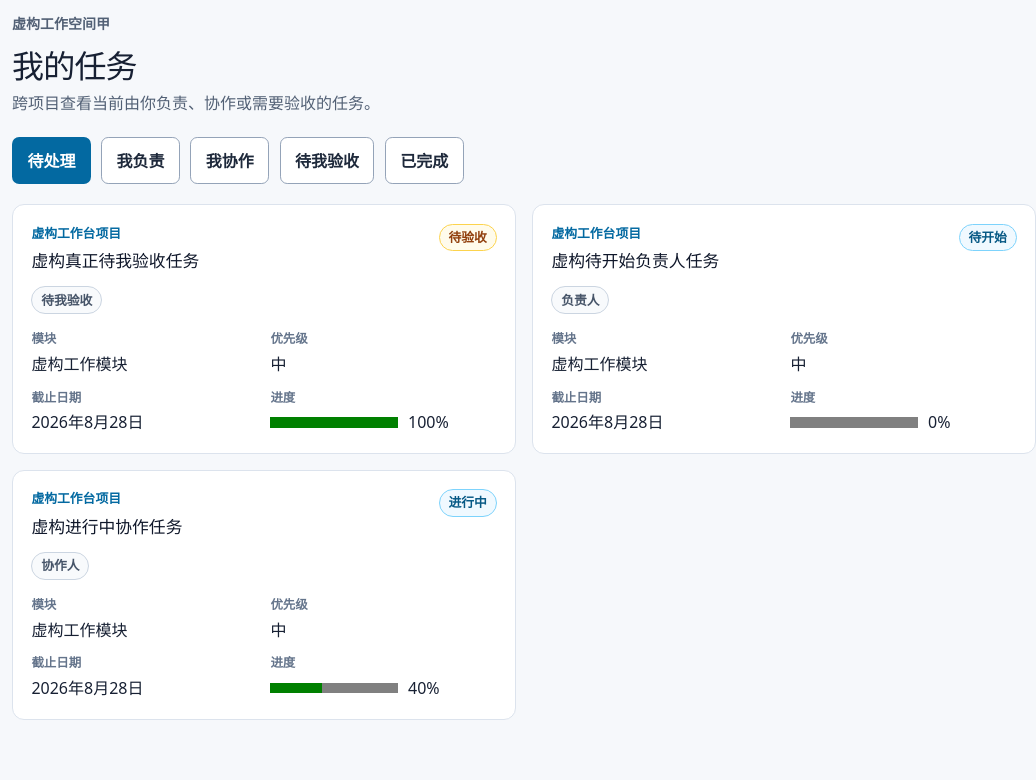
it: 我的任务页面 › /tasks 是正式页面，各筛选保持责任语义且待我验收不含已提交任务
Expected: the heading "我的任务" is shown, [12,44,137,87]
Expected: the link "虚构待开始负责人任务" is shown, [551,249,719,272]
Click the button "我负责". click: x=141, y=161
box: [101,137,180,184]
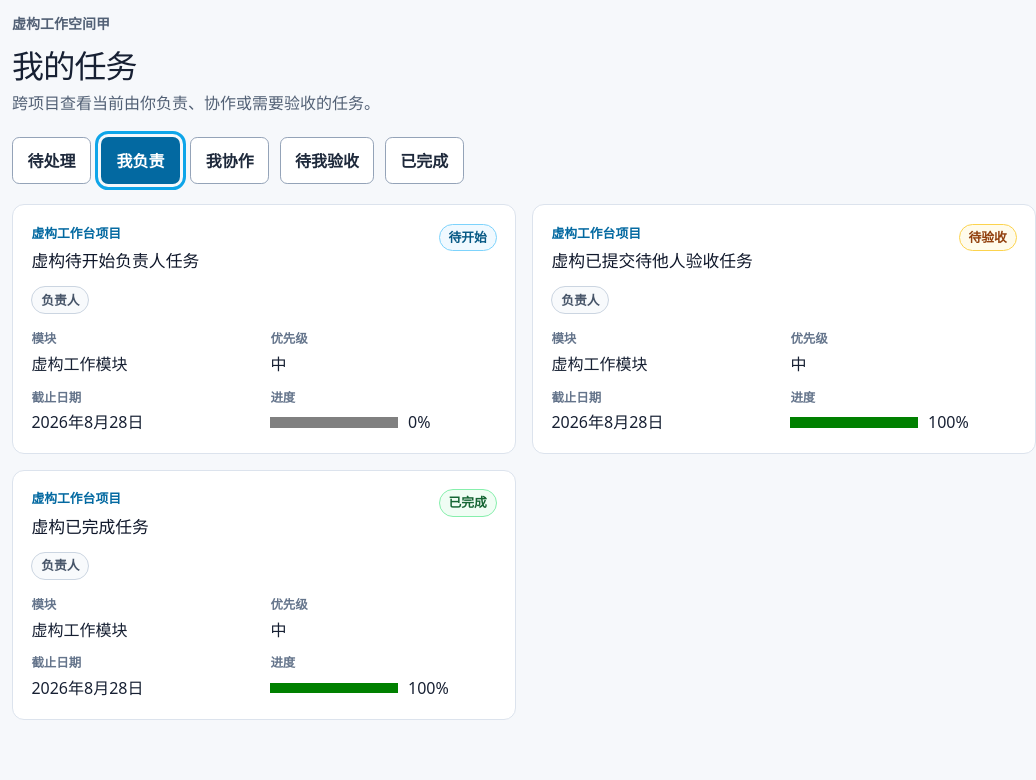
Expected: the link "虚构待开始负责人任务" is shown, [31,249,199,272]
Result: the link "虚构已提交待他人验收任务" is shown at [551,249,753,272]
Result: the link "虚构进行中协作任务" is gone
Click the button "我协作". click: x=230, y=161
box: [190,137,269,184]
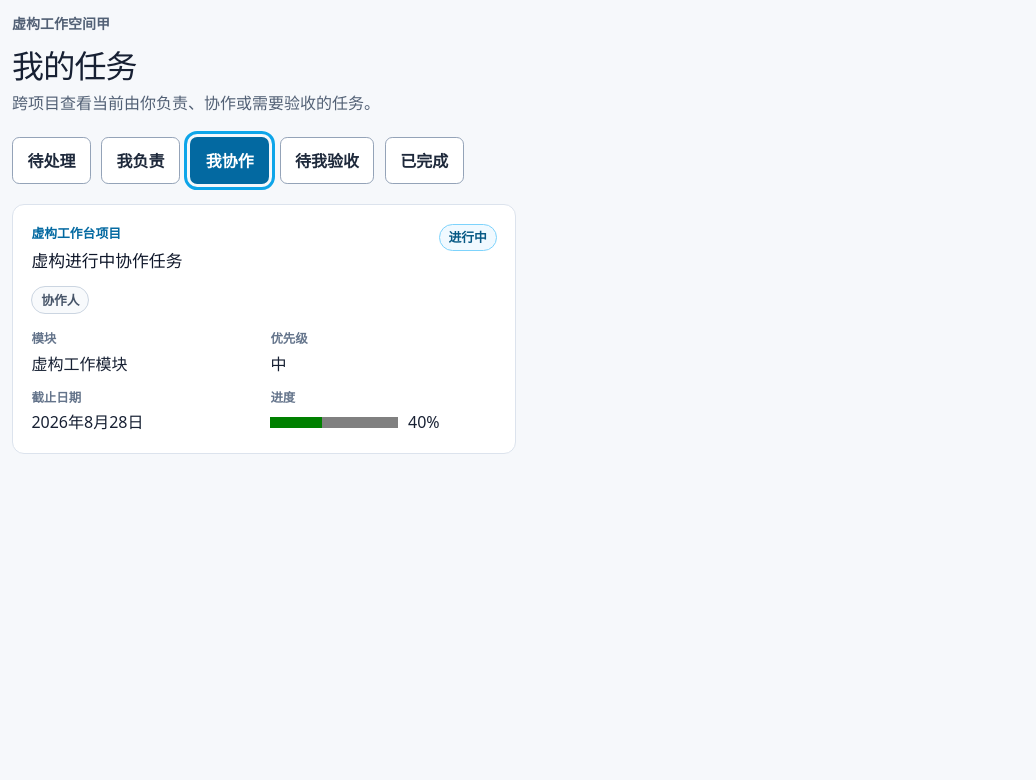
Result: the link "虚构进行中协作任务" is shown at [31,249,182,272]
Result: the link "虚构待开始负责人任务" is gone
Click the button "待我验收". click: x=327, y=161
box: [280,137,374,184]
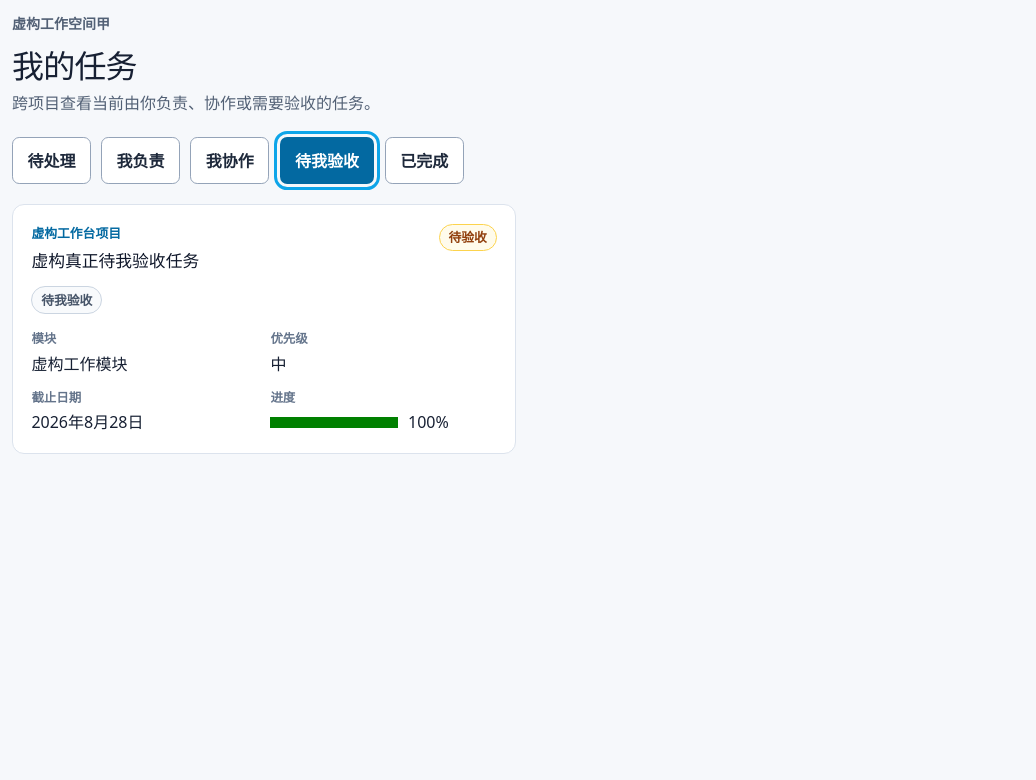
Expected: the link "虚构已提交待他人验收任务" is not shown
Result: the link "虚构真正待我验收任务" is shown at [31,249,199,272]
Click the button "已完成". click: x=424, y=161
box: [385,137,464,184]
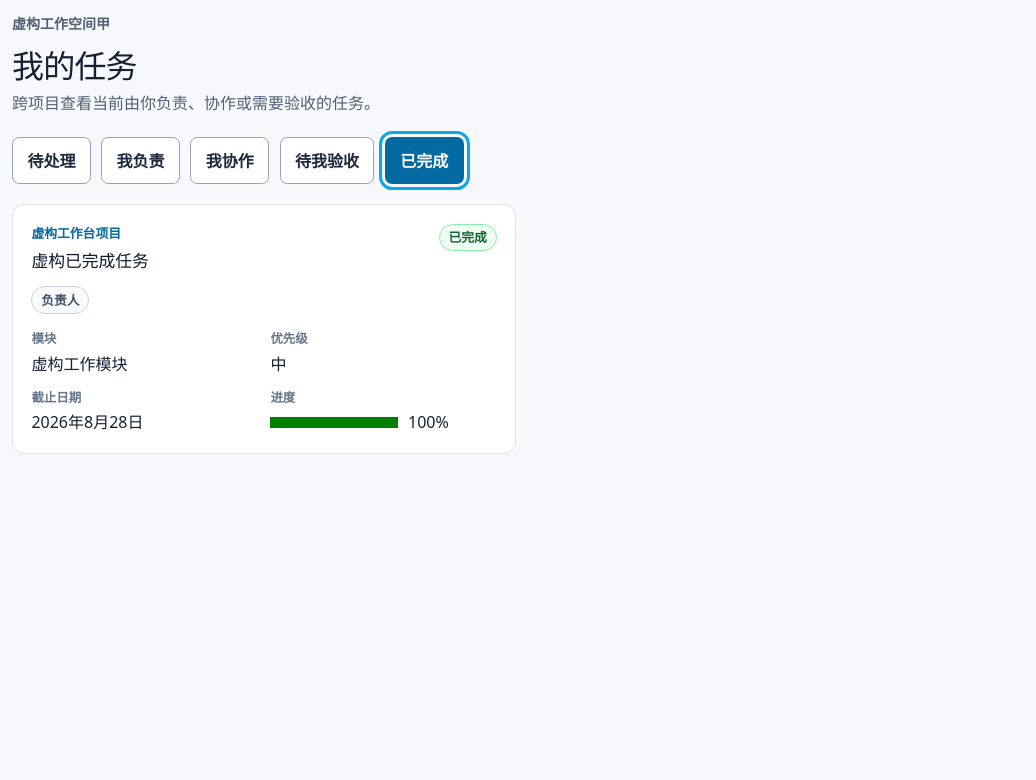
Result: the link "虚构已完成任务" is shown at [31,249,149,272]
Result: the link "虚构真正待我验收任务" is gone
